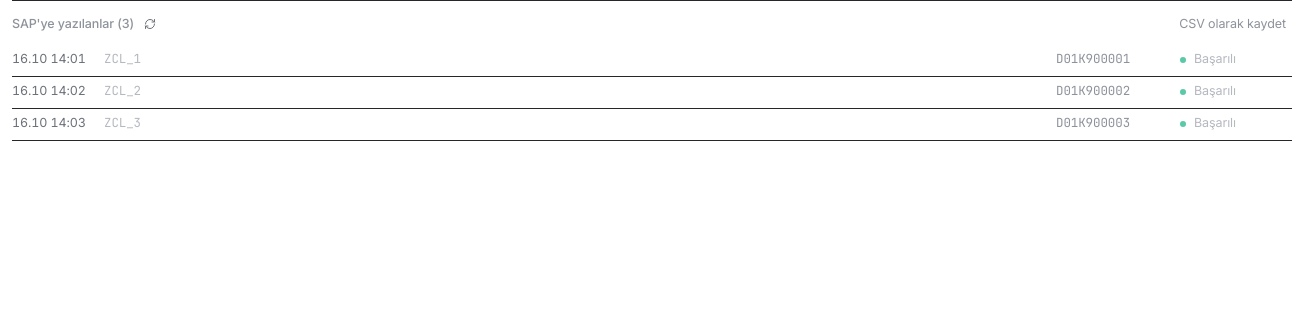
Scenario: WriteHistory › bilinen mod kodu i18n etiketiyle gösteriliyor; bilinmeyen ham kalıyor
// İlk satırı aç: mod "dogrudan" → "Doğrudan"
Click the button "16.10 14:01 ZCL_1 D01K900001 Başarılı": click(49, 59) [12,44,1292,76]
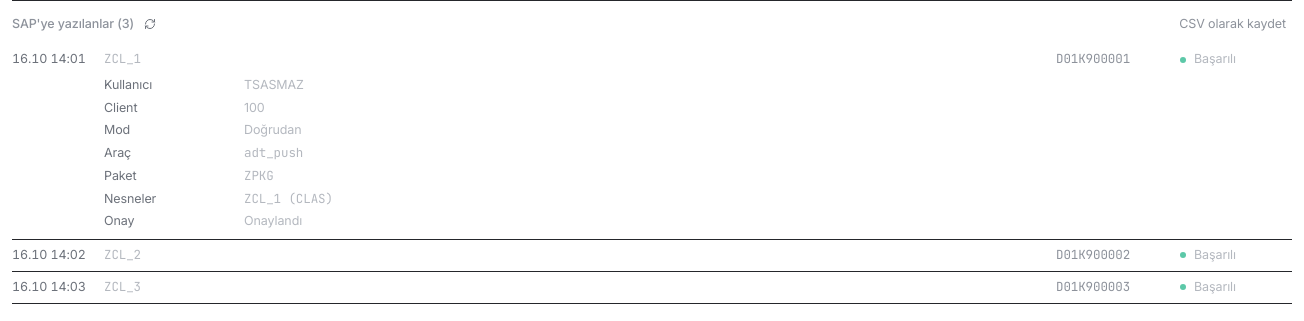
Expected: the text "Doğrudan" is shown, [244,122,302,137]
// İkinci satırı aç: mod "yerel" → "Yerel"
Click the button "16.10 14:02 ZCL_2 D01K900002 Başarılı": click(49, 254) [12,239,1292,271]
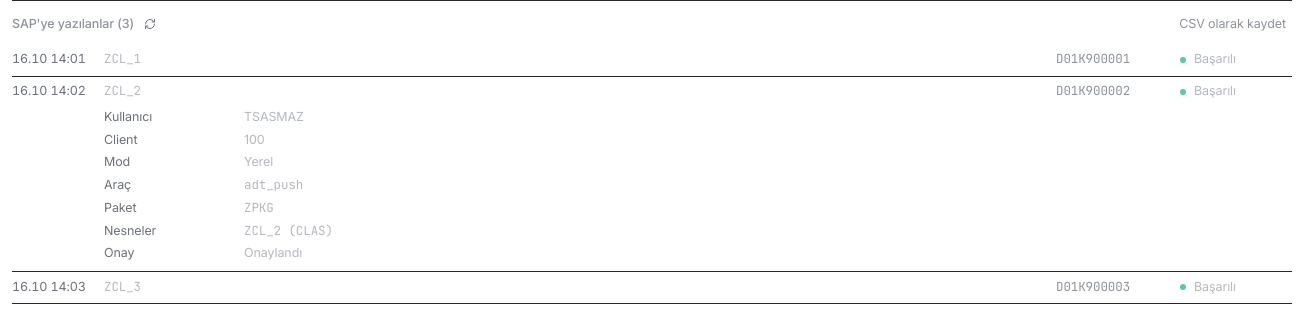
Expected: the text "Yerel" is shown, [244,154,273,169]
// Üçüncü satırı aç: bilinmeyen mod → ham kod
Click the button "16.10 14:03 ZCL_3 D01K900003 Başarılı": click(49, 286) [12,271,1292,303]
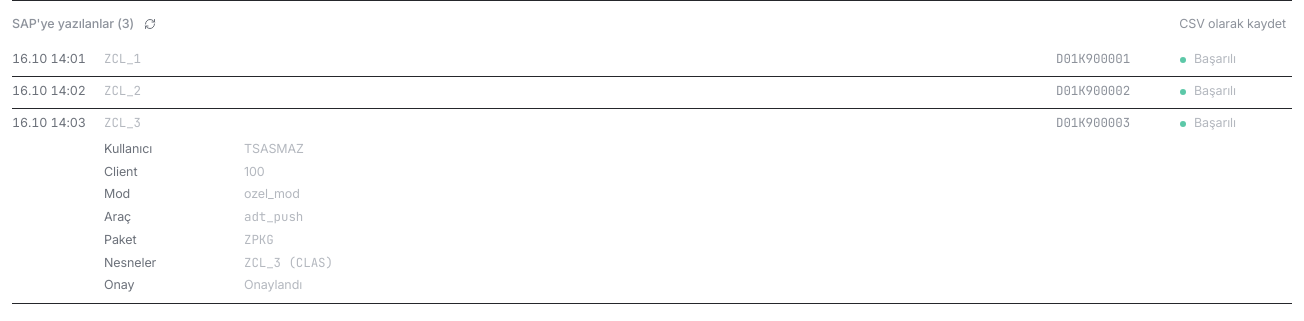
Expected: the text "ozel_mod" is shown, [244,186,300,201]
